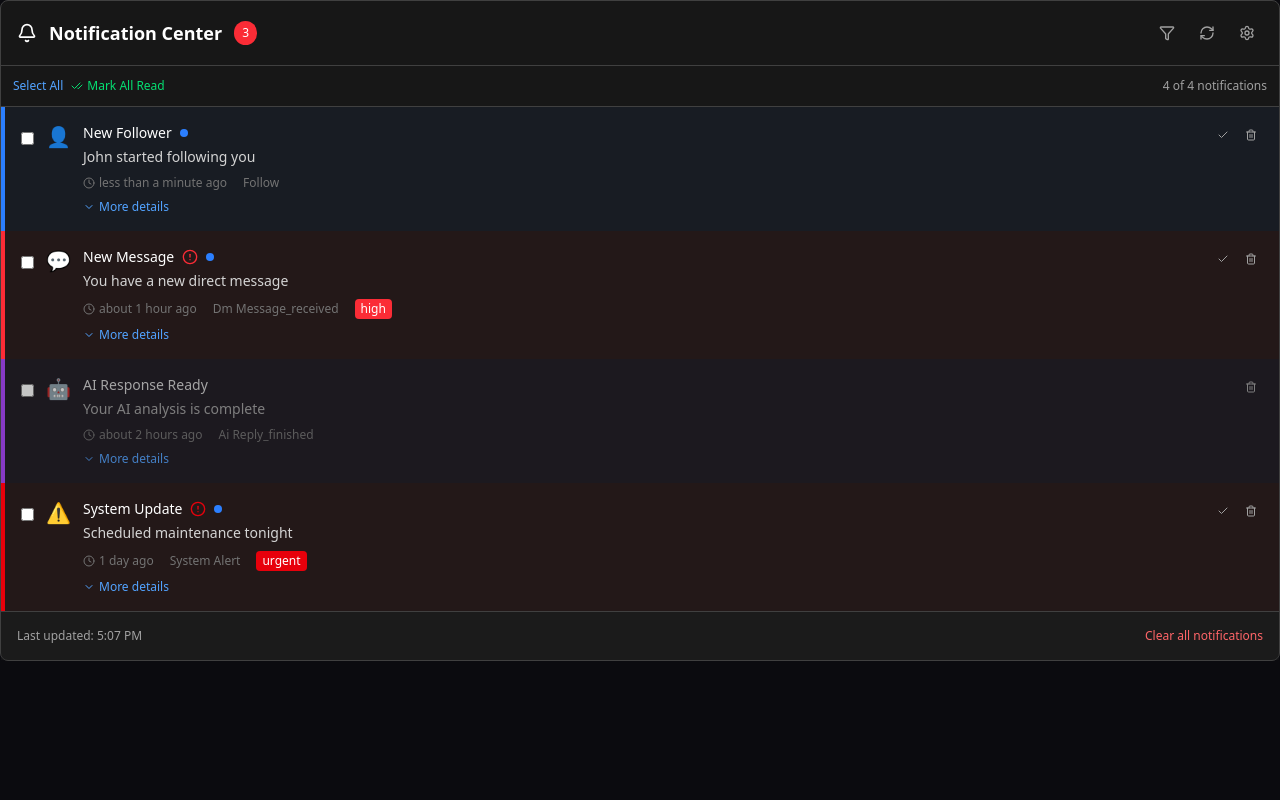
Test: NotificationCenter › Filters › should toggle filters panel on button click
Expected: the field labelled "Status" is not shown
Click to show
What coordinates should you click on to do the following:
click the button named "Toggle filters panel"
I would click on:
 (1167, 33)
Its box is [1151,17,1183,49].
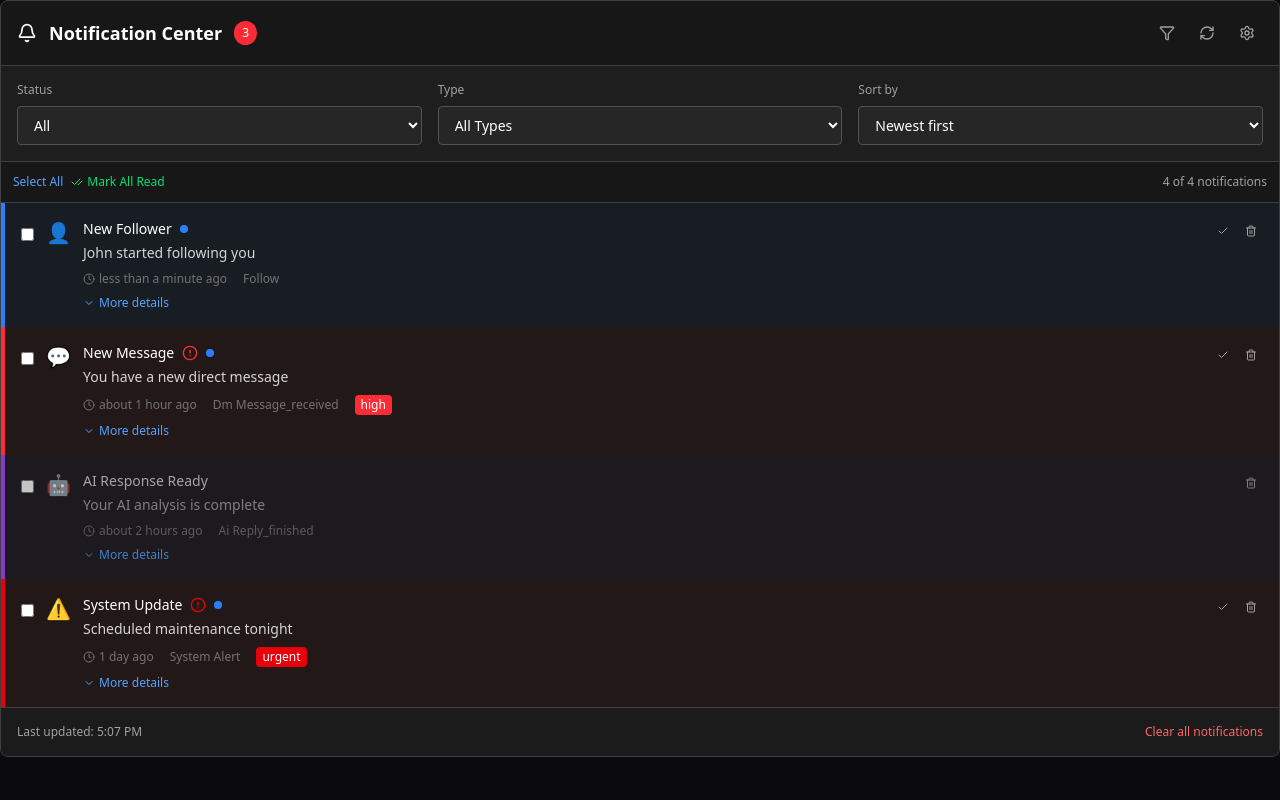
Now the text "Status" is shown, box [17,81,52,98]
Now the text "Type" is shown, box [438,81,464,98]
Now the text "Sort by" is shown, box [858,81,898,98]
